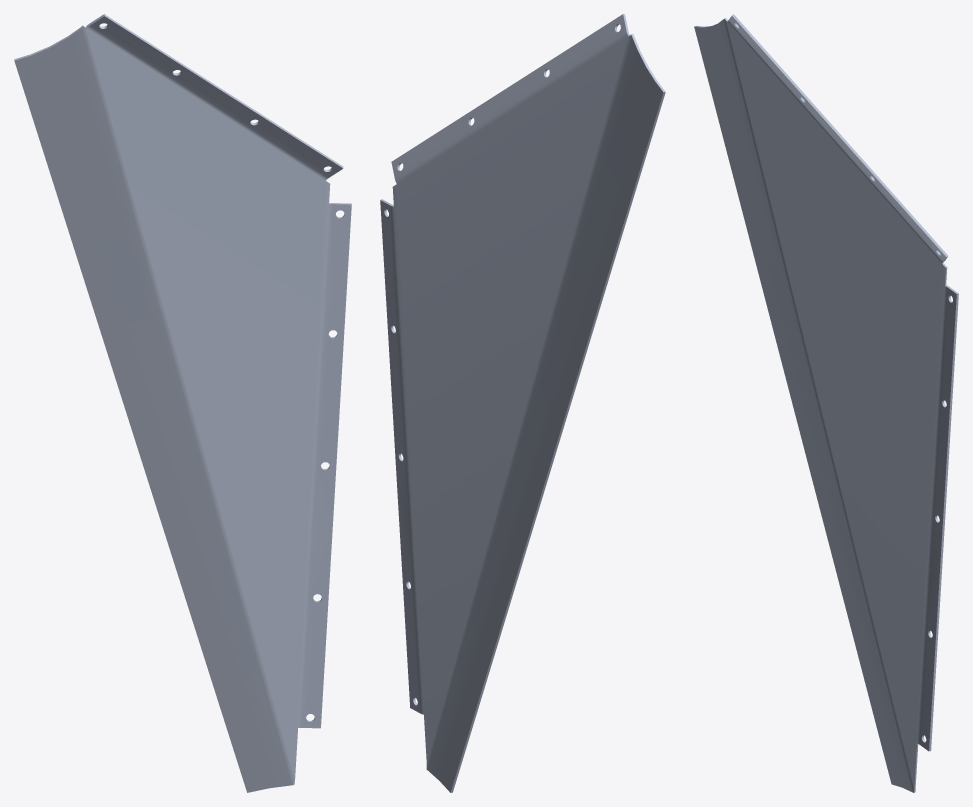
File: Firewall__UA_26_Side_Firewall_1.dae
3 views of the same model, side by side, from view 1: azimuth 30°, elevation 25°; view 2: azimuth 150°, elevation 25°; view 3: azimuth 330°, elevation 25° (orthographic). The views are drawn at different scales.
Parts seen in each view (by area): view 1: node0; view 2: node0; view 3: node0.
Boxes of the visible parts, bbox=[...] form: node0: bbox=[14, 14, 351, 792]; node0: bbox=[380, 14, 665, 792]; node0: bbox=[694, 14, 958, 792].
Bounding box in the file's own units: 0.1649 × 0.4139 × 0.023.
